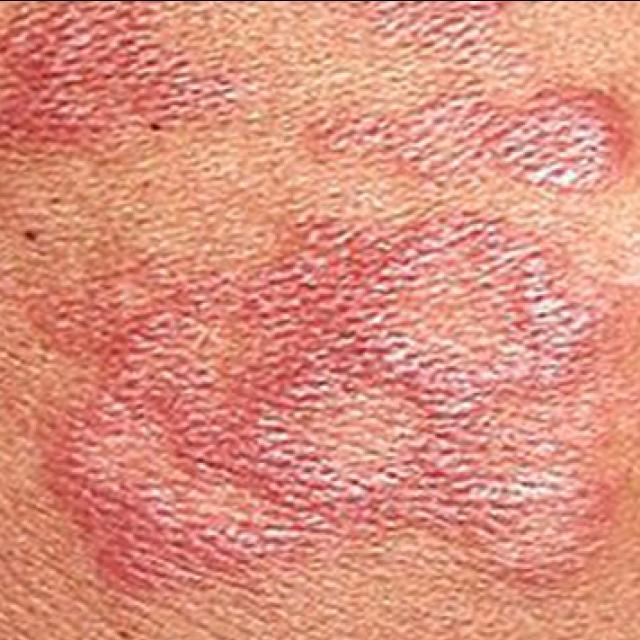Leprosy: (28, 201, 608, 599), (291, 0, 640, 198), (0, 0, 266, 187)
